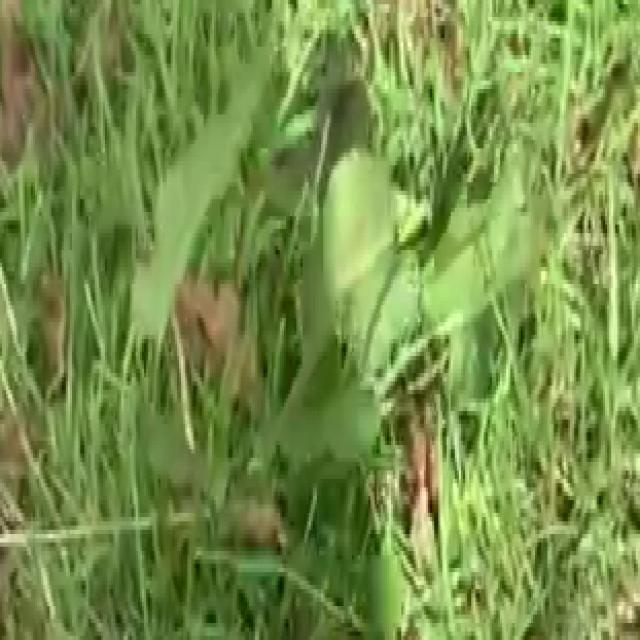organic waste: (117, 0, 555, 627)
